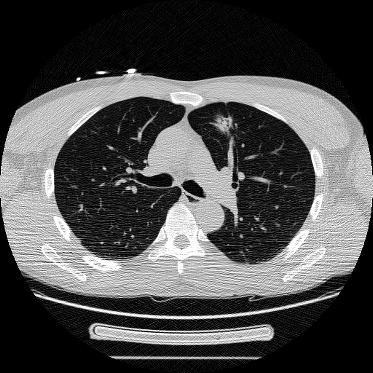nodule: (217, 112, 239, 134)
